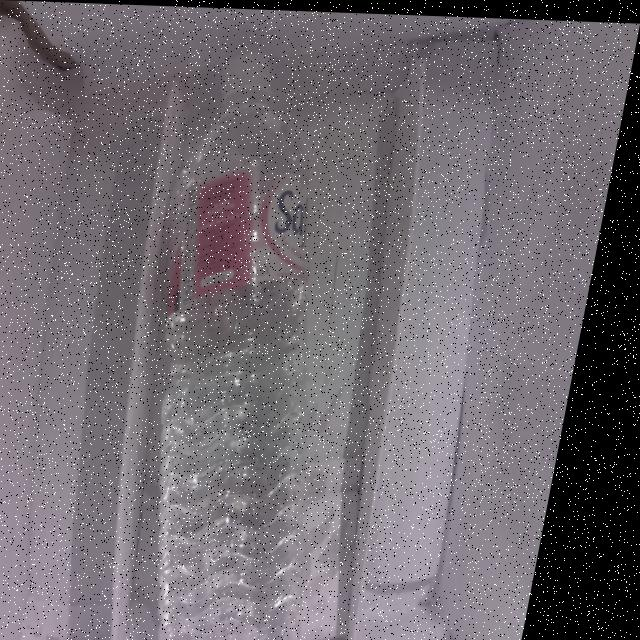litter: (200, 45, 297, 108)
